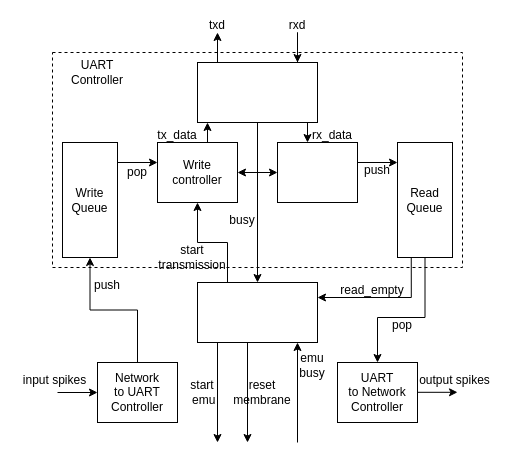
Some shapes in this 509 by 468 pixel diagram are drawn without their labels. The shapes that lost their labels are listed below. From the top down, each one's box as (x1, y1, x2, y2) in pixels, then its label:
(196, 62, 318, 122): UART Transciever
(276, 142, 358, 202): Read controller
(196, 282, 318, 342): Emulation FSM Controller
